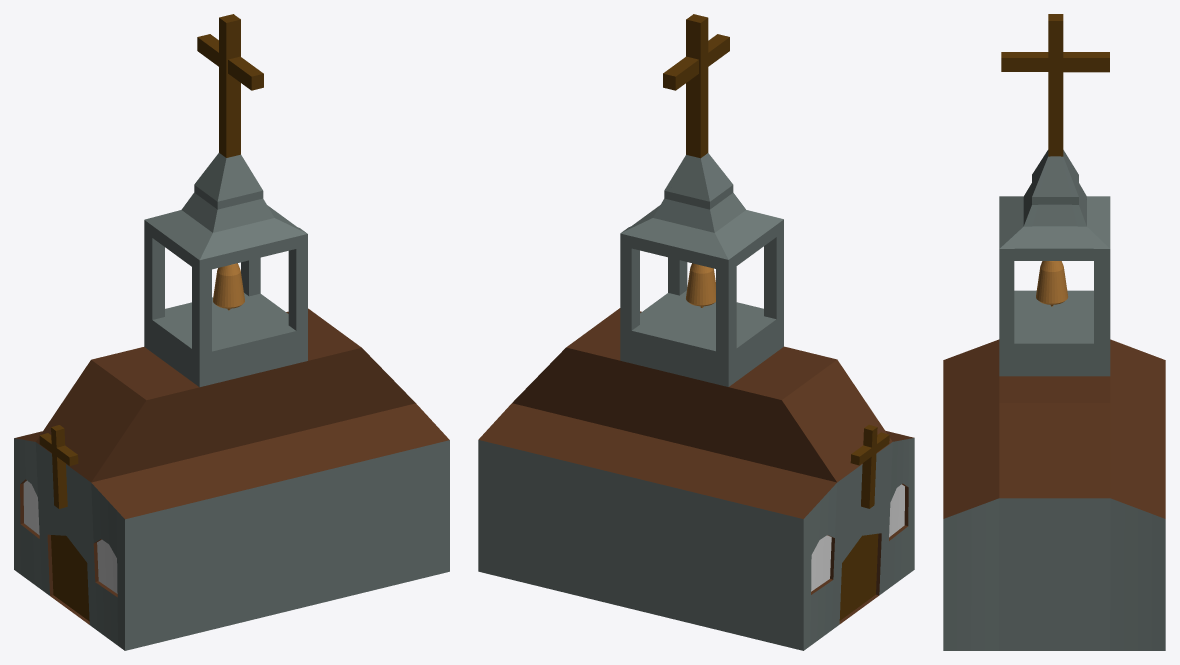
File: kirkko.glb
3 views of the same model, side by side, from view 1: azimuth 30°, elevation 25°; view 2: azimuth 150°, elevation 25°; view 3: azimuth 270°, elevation 25° (orthographic).
Parts seen in each view (by area): view 1: Cube; view 2: Cube; view 3: Cube.
Part boxes in pixels (x1,y1,x2,y2): Cube: (14, 14, 449, 650); Cube: (478, 14, 914, 650); Cube: (943, 14, 1165, 650).
Bounding box in the file's own units: 16.24 × 25.14 × 9.16.
